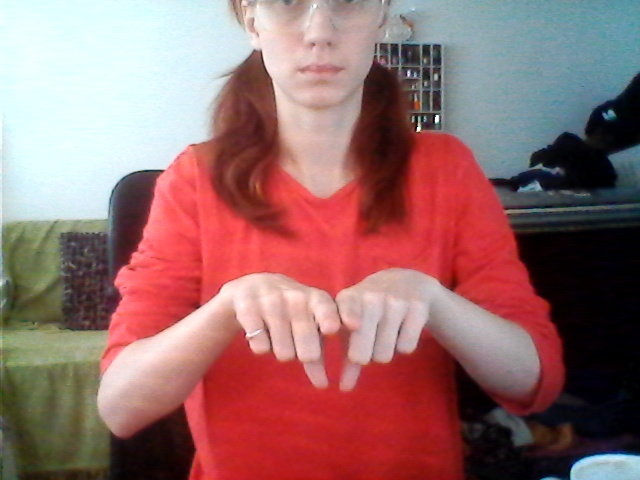sestra: (214, 257, 446, 396)
